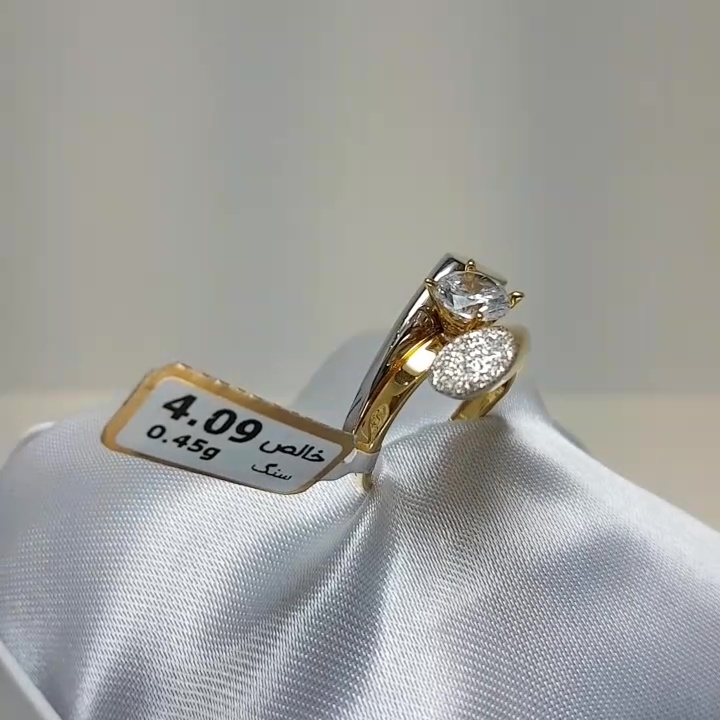Ring 7: (335, 236, 552, 482)
